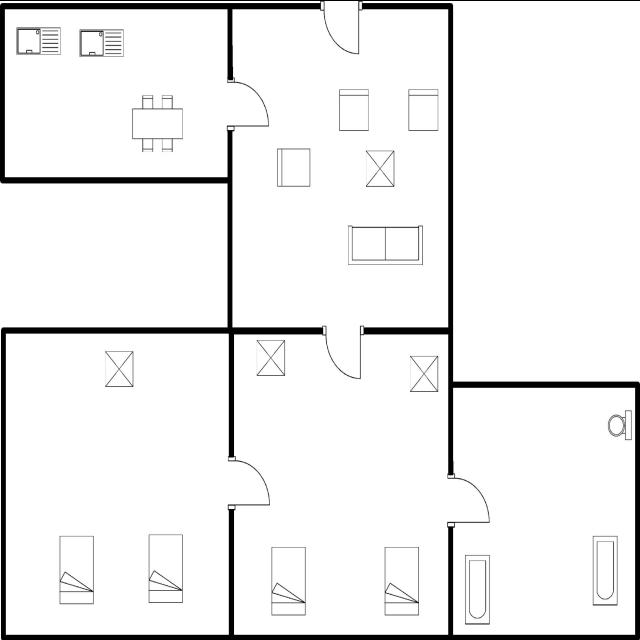bed: (145, 522, 188, 608), (380, 538, 424, 622), (54, 528, 98, 610), (269, 541, 309, 619)
coffee_table: (406, 350, 442, 400), (361, 145, 396, 194), (102, 346, 136, 391), (253, 334, 287, 379)
dining_table: (126, 92, 188, 159)
large_sink: (602, 405, 634, 445)
large_sofa: (343, 220, 427, 270)
sink: (75, 24, 127, 64), (12, 21, 64, 59)
small_sofa: (274, 139, 314, 193), (403, 82, 441, 138), (335, 85, 372, 136)
tub: (460, 548, 494, 630), (588, 530, 622, 610)
